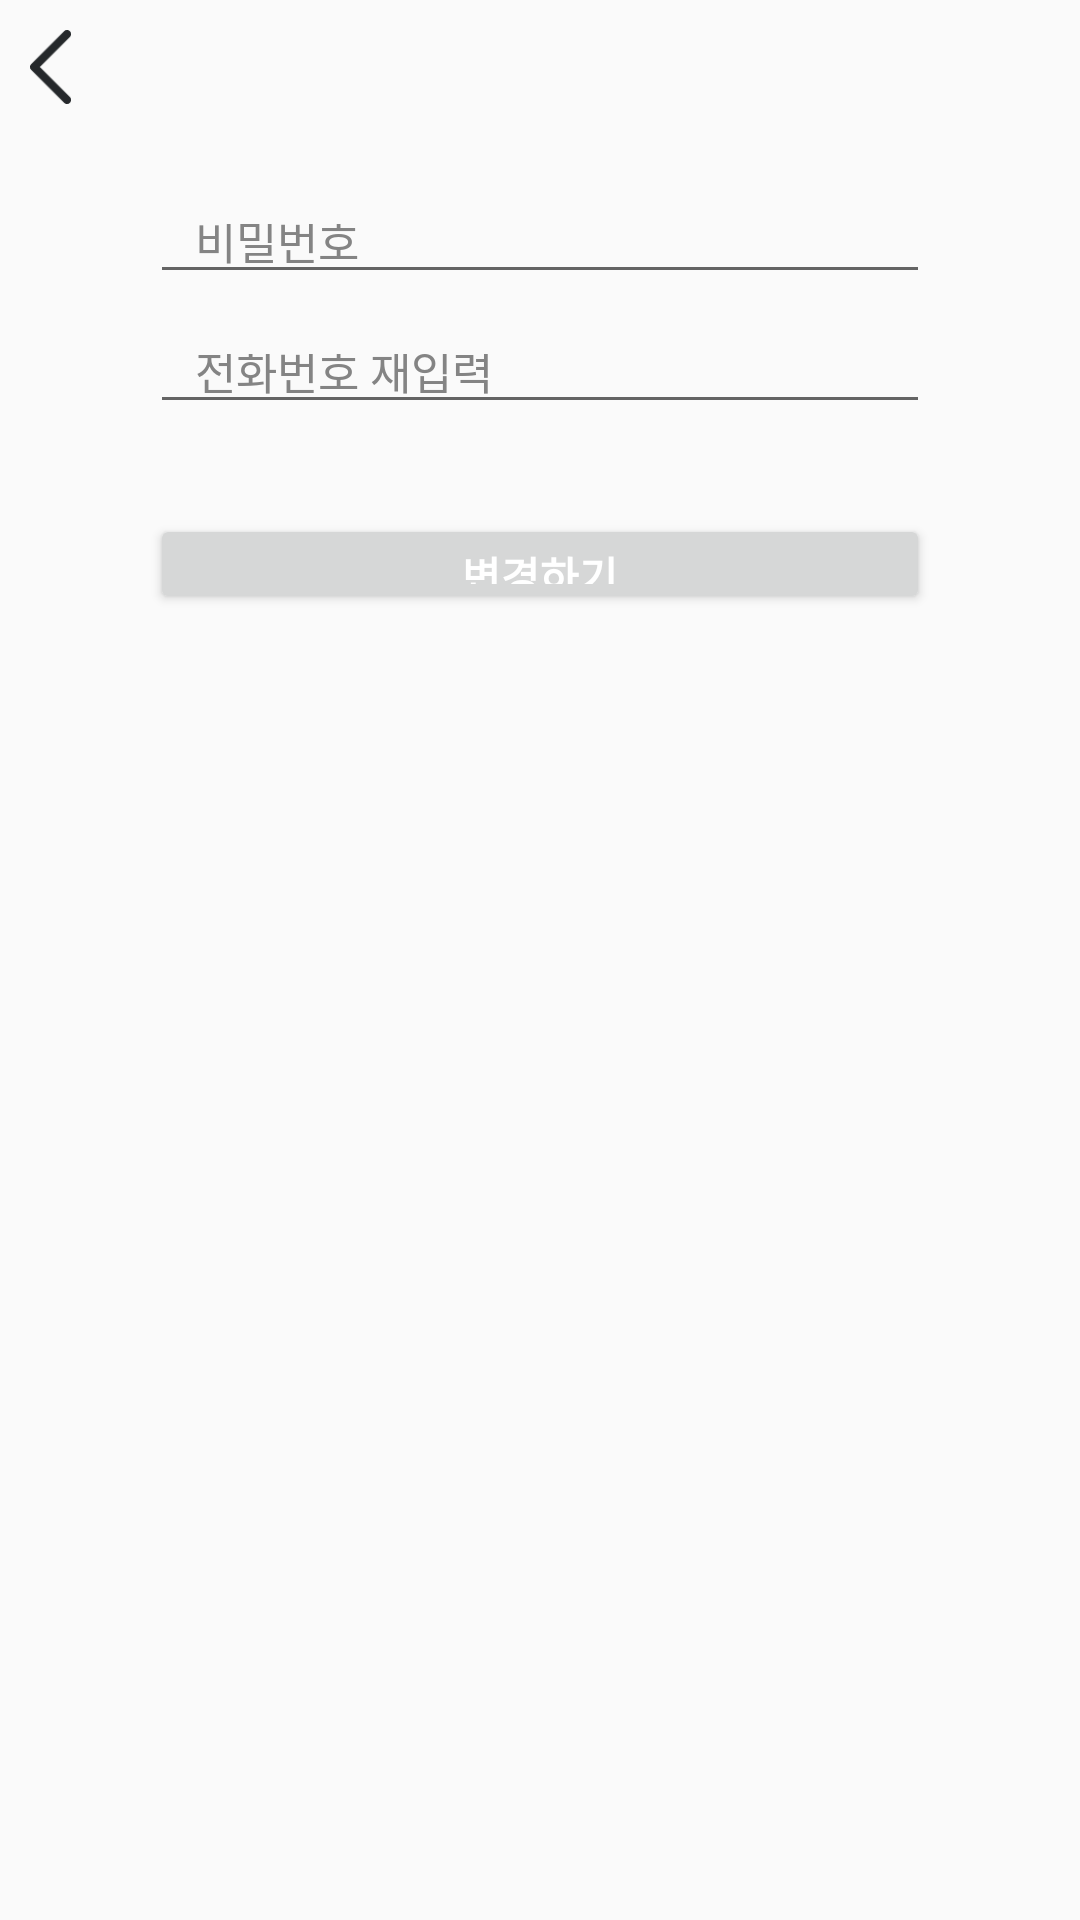

Named icons in this screenshot (1080*1920) and their bounding boxes, rect(x1, y1, x2, y2):
back arrow: rect(30, 30, 71, 104)
